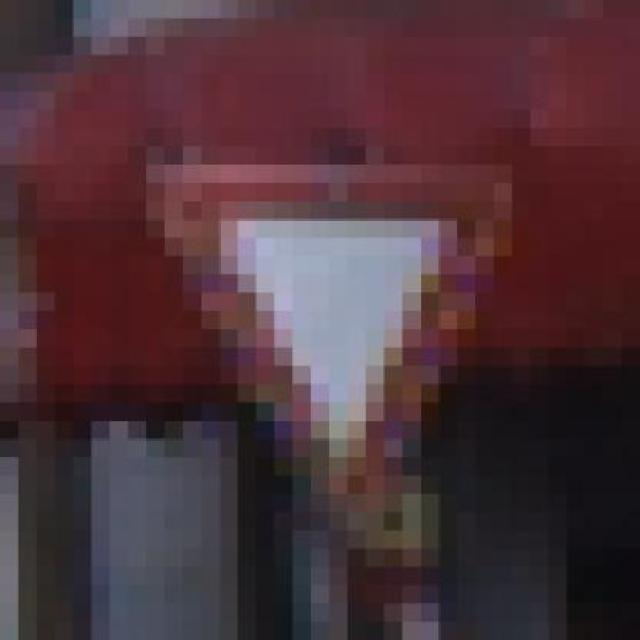Give Way: (73, 128, 585, 549)
